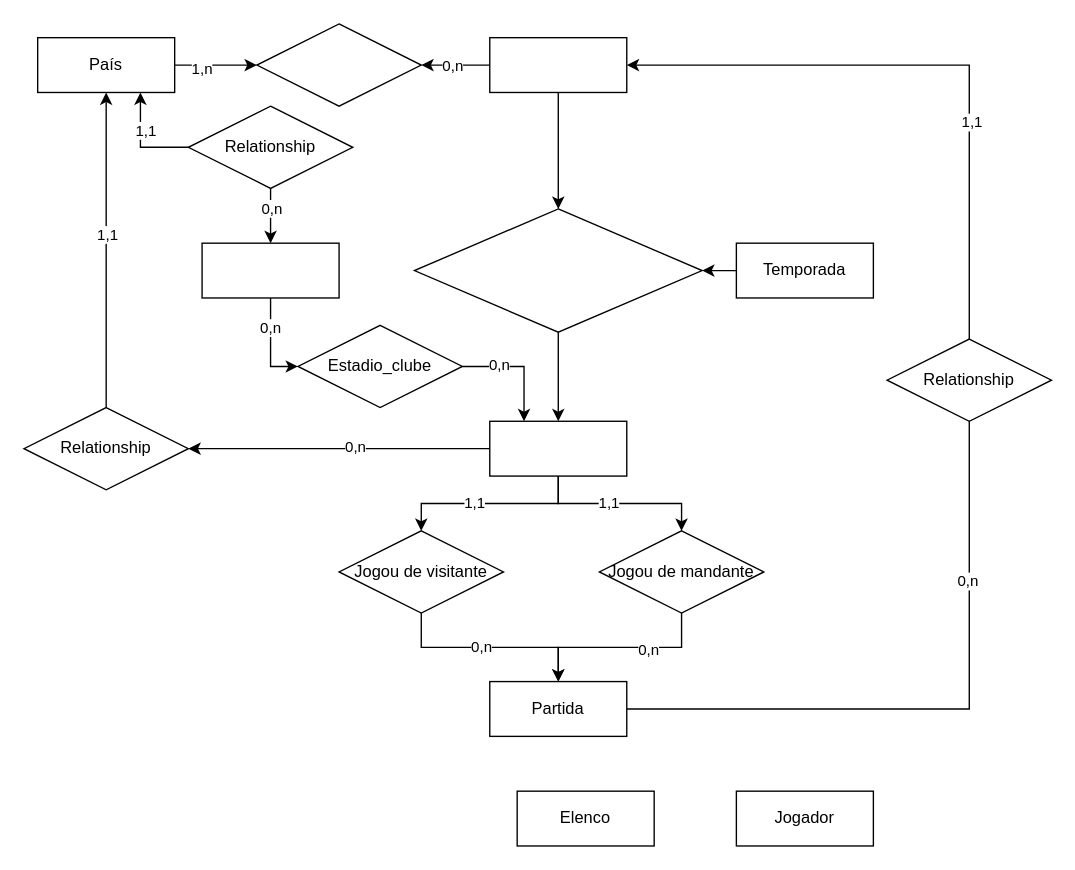
The diagram is 1075 pixels wide and 870 high, and some of its shapes have lost their labels. Each missing label, with the centre of its shape:
Campeonato: point 557,64
Clube: point 557,448
Estádio: point 270,270
País_campeonato: point 338,64
Time_campeonato_temporada: point 557,270
